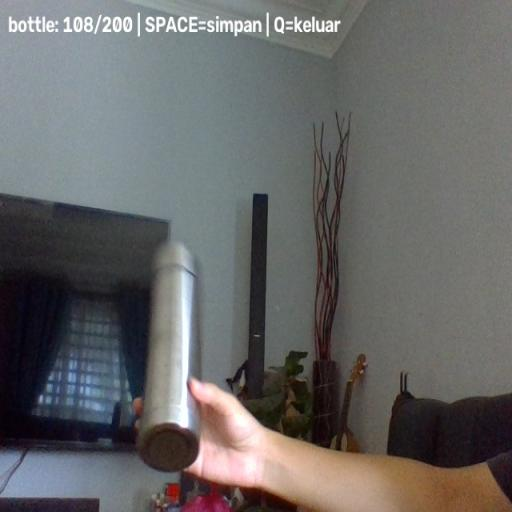Bottle: (134, 238, 202, 472)
